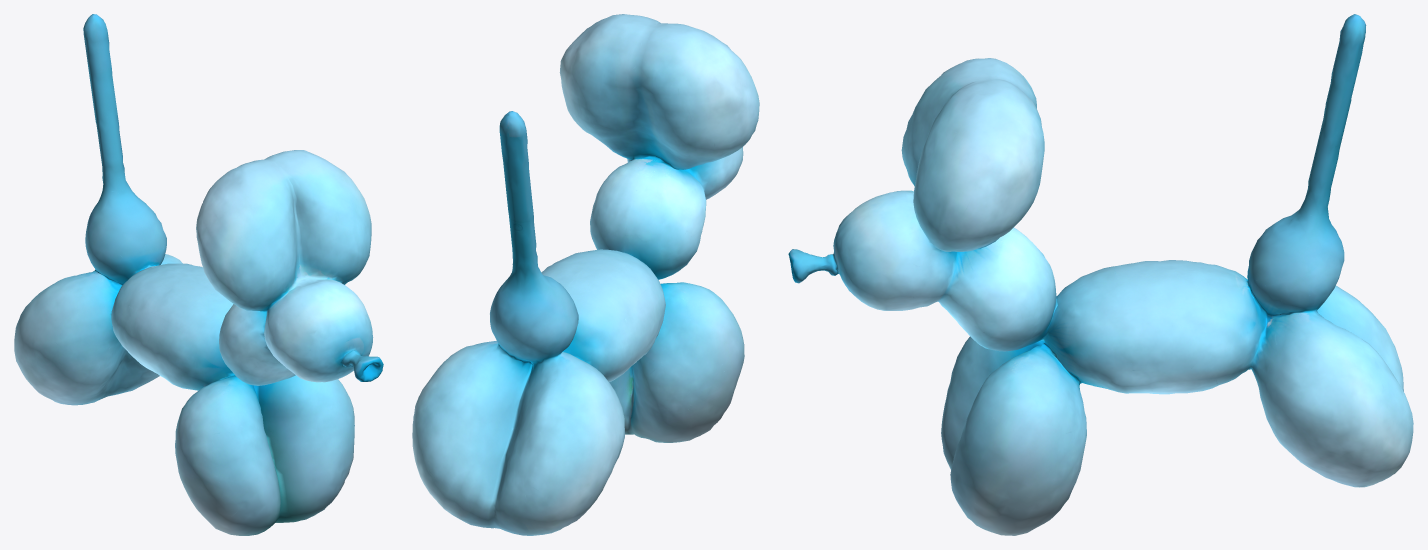
Rendered from blue-dog-balloon-ani.glb.
3 renders of one model, left to right at view 1: azimuth 30°, elevation 25°; view 2: azimuth 150°, elevation 25°; view 3: azimuth 270°, elevation 25°, orthographic. The views are drawn at different scales.
Parts seen in each view (by area): view 1: Mesh_0.005; view 2: Mesh_0.005; view 3: Mesh_0.005.
Part boxes in pixels (x1,y1,x2,y2): Mesh_0.005: (14,14,383,535); Mesh_0.005: (412,14,759,535); Mesh_0.005: (788,14,1413,535).
Bounding box in the file's own units: 0.8354 × 1.68 × 1.96.
Materials: 1 (1 with a texture image).
